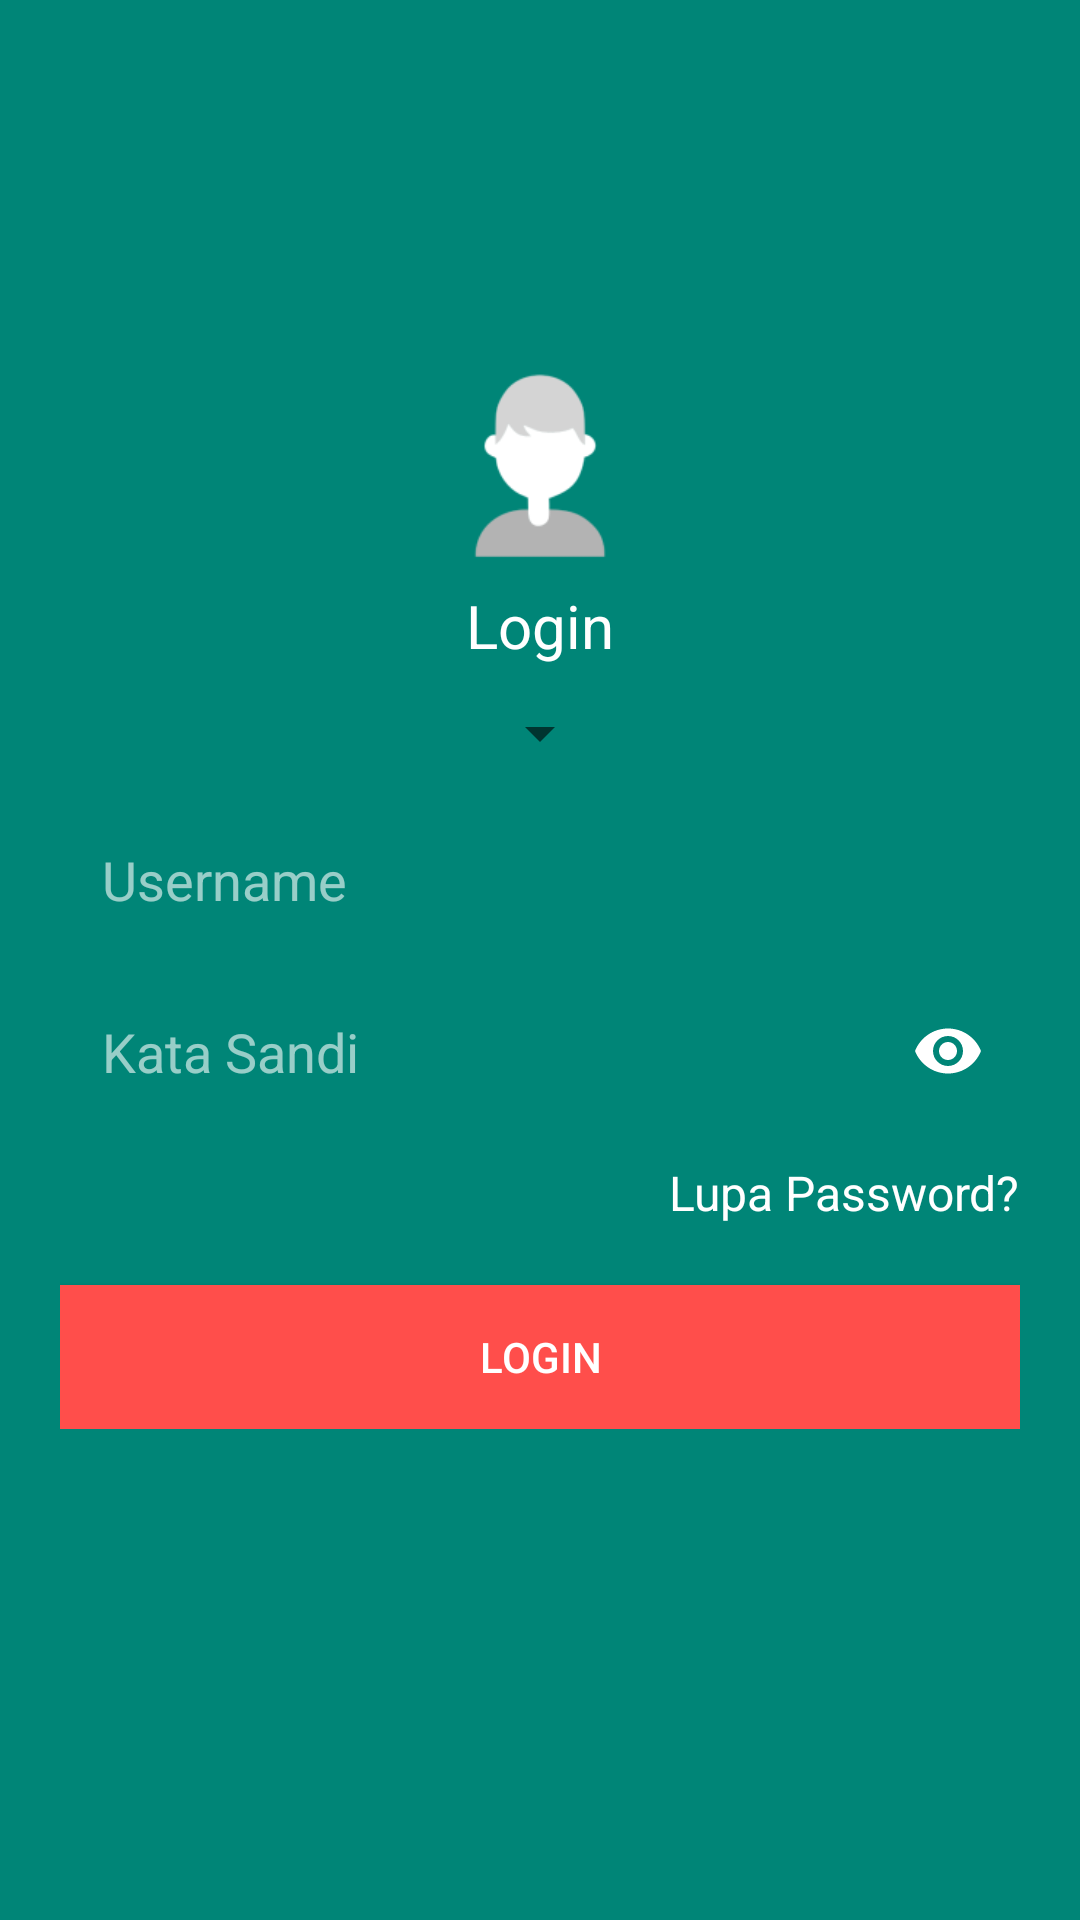

Icons on this 1080 x 1920 Android screen, each with the point to tap as [x,y]:
admin: [540,465]
